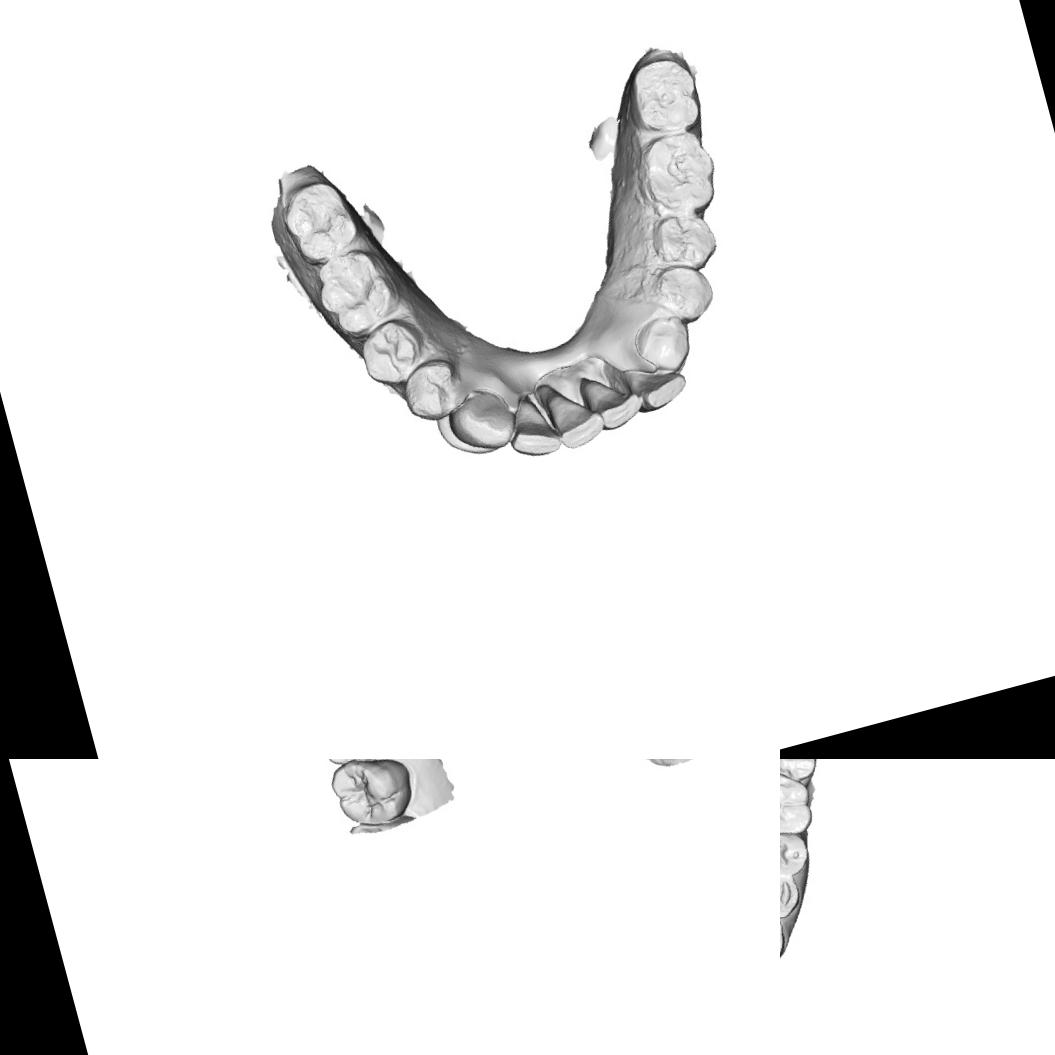canine: (442, 382, 520, 460)
incisor: (498, 386, 565, 464), (546, 379, 608, 454), (626, 350, 693, 415), (584, 363, 644, 435)
molar: (310, 240, 404, 336), (634, 119, 722, 218), (324, 759, 423, 836), (278, 176, 361, 264), (622, 53, 703, 142), (780, 759, 819, 848)
premolar: (645, 201, 720, 272), (356, 316, 422, 390), (648, 257, 716, 327), (398, 355, 462, 423), (780, 823, 814, 886), (780, 864, 806, 929)
